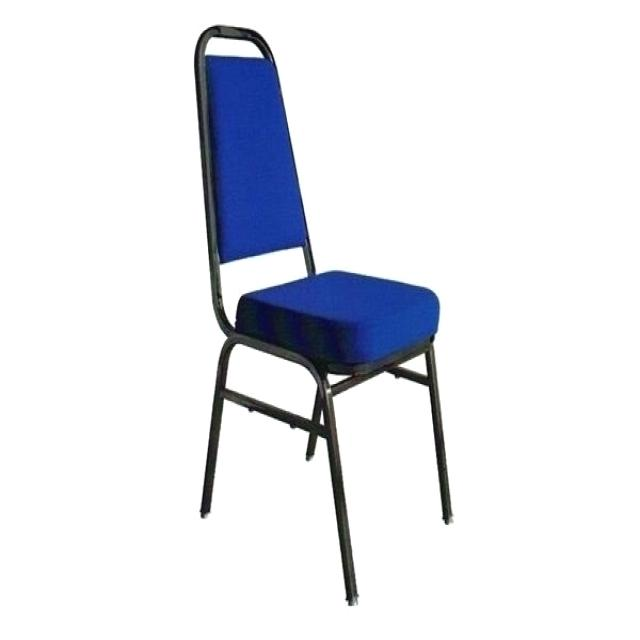Chair: (190, 22, 462, 611)
